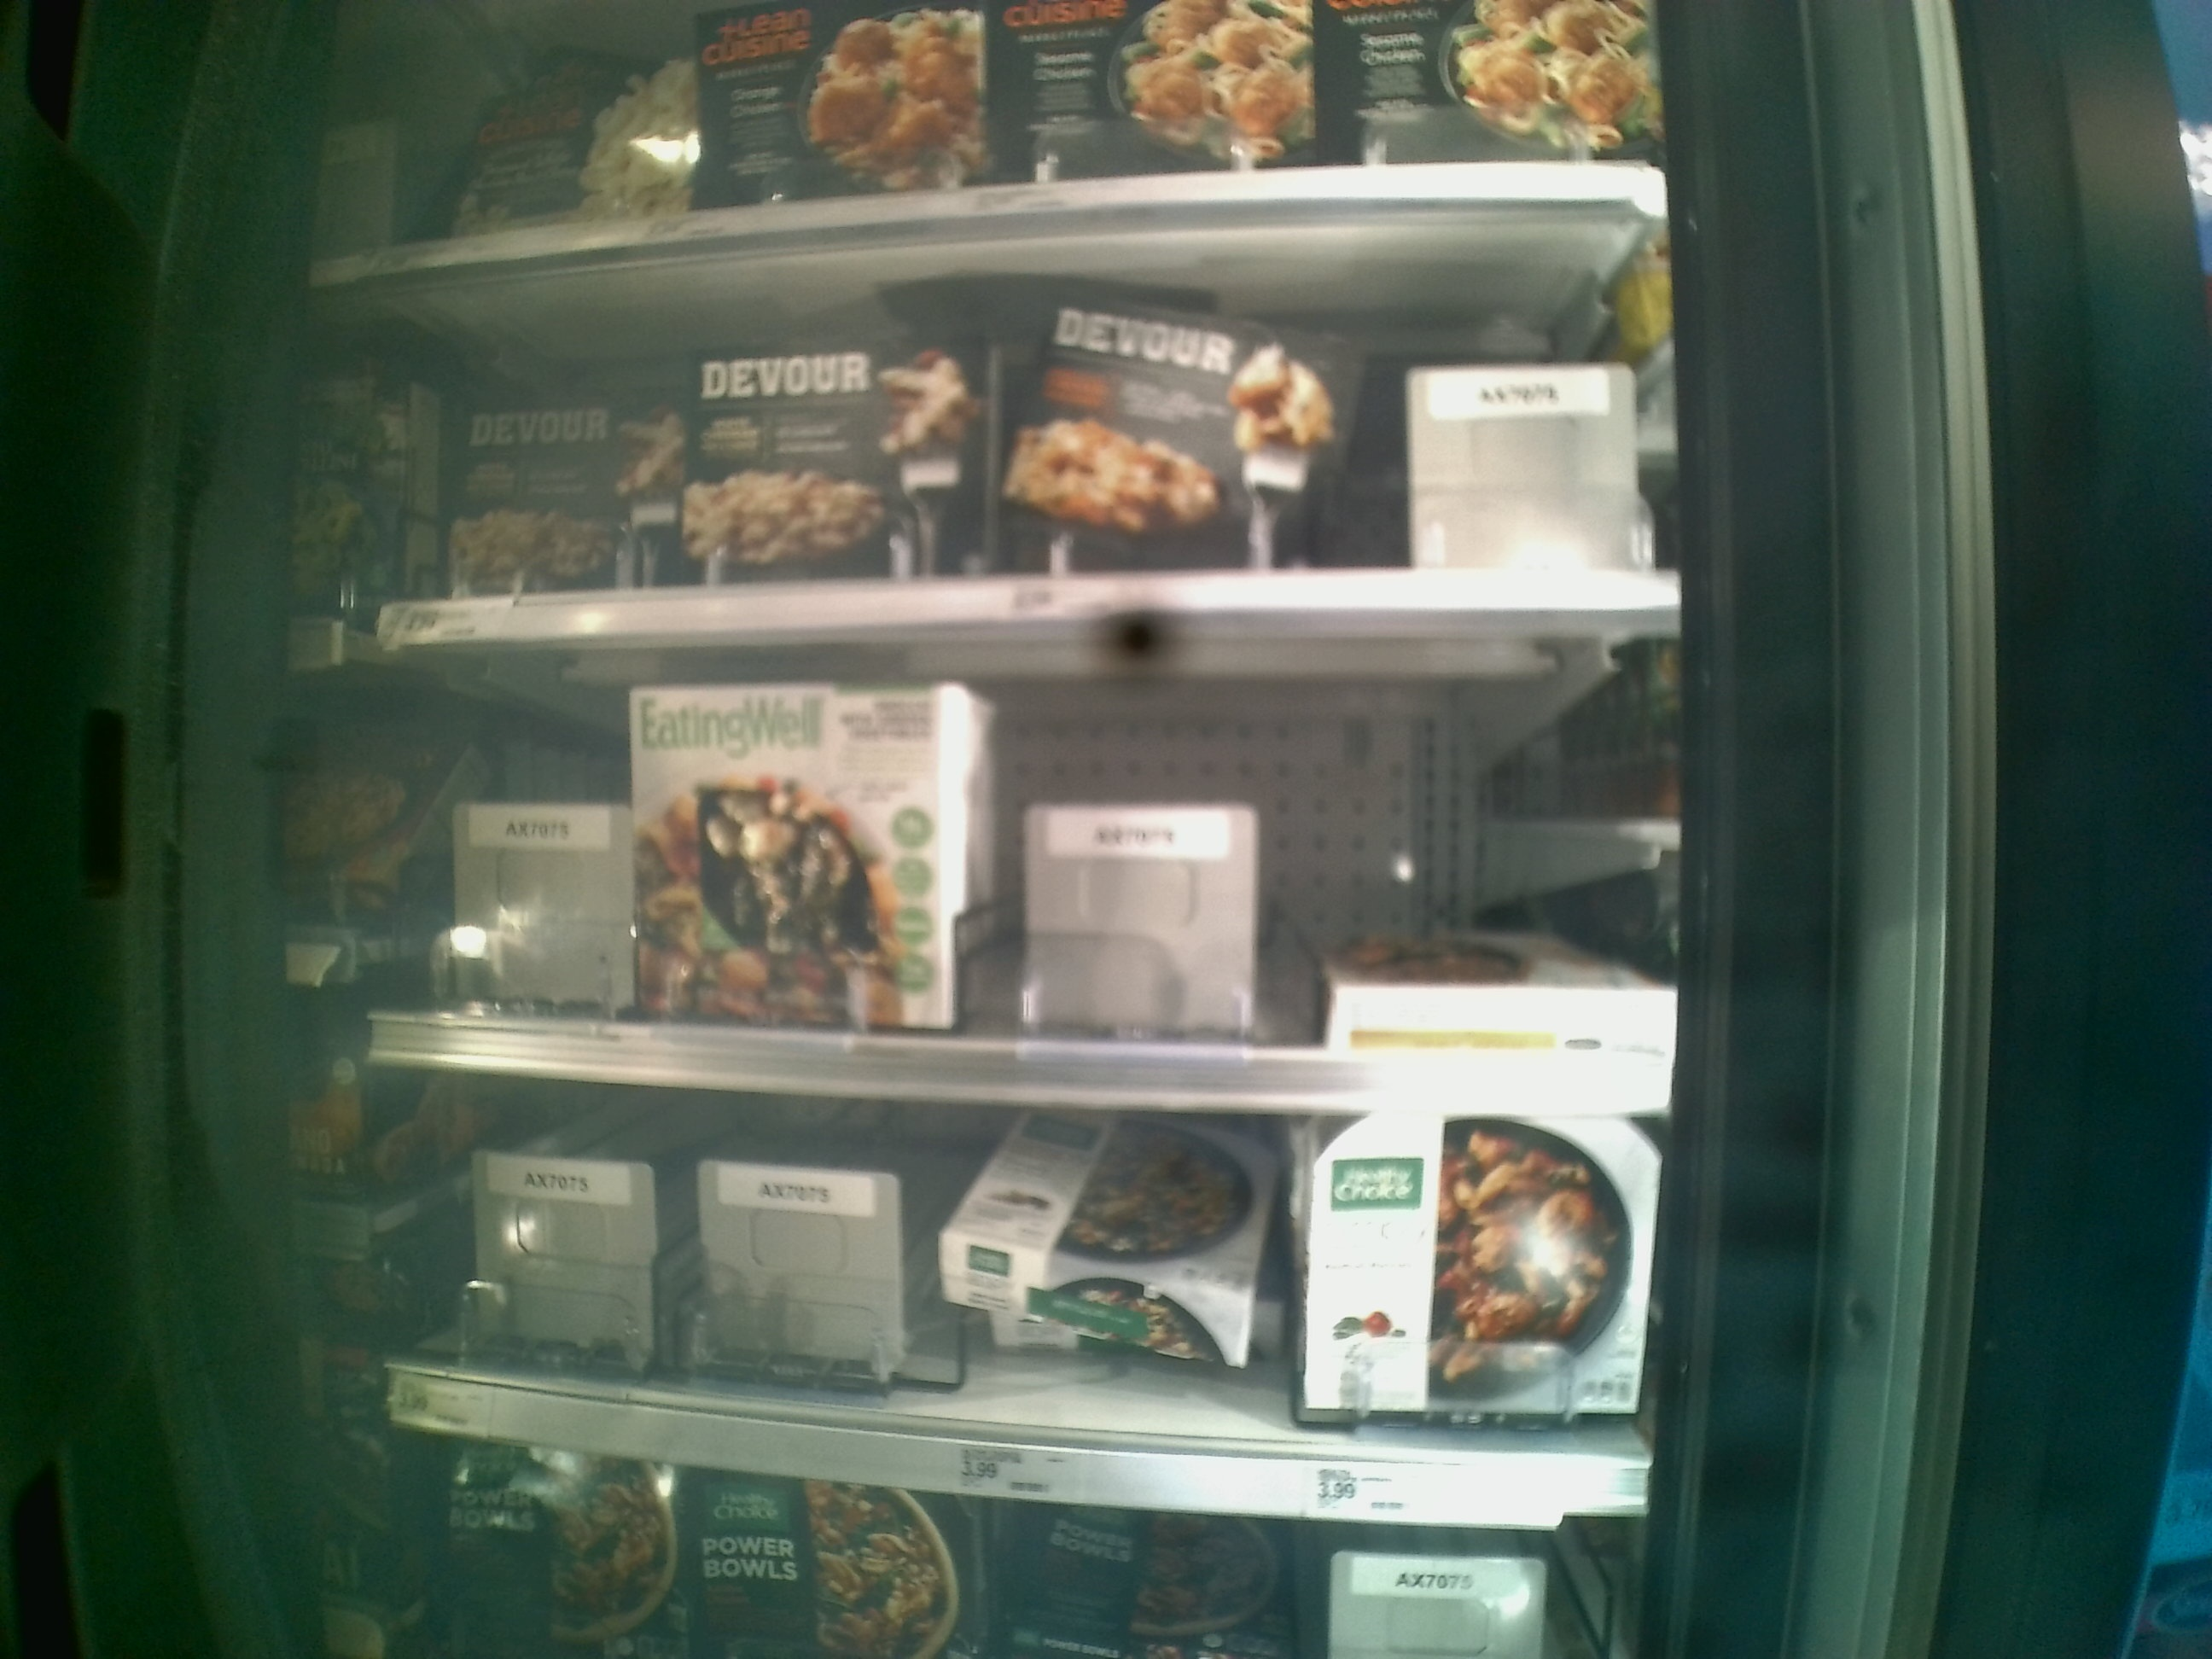shelf: (374, 617, 1679, 1115), (366, 1058, 1663, 1532), (341, 209, 1669, 653)
